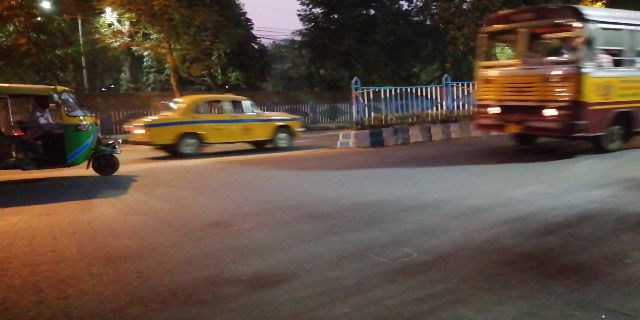Autorickshaw: (7, 82, 121, 176)
Bus: (468, 5, 635, 144)
Car: (133, 85, 307, 160)
